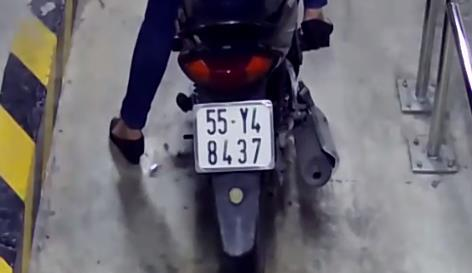lisence: (193, 99, 276, 173)
